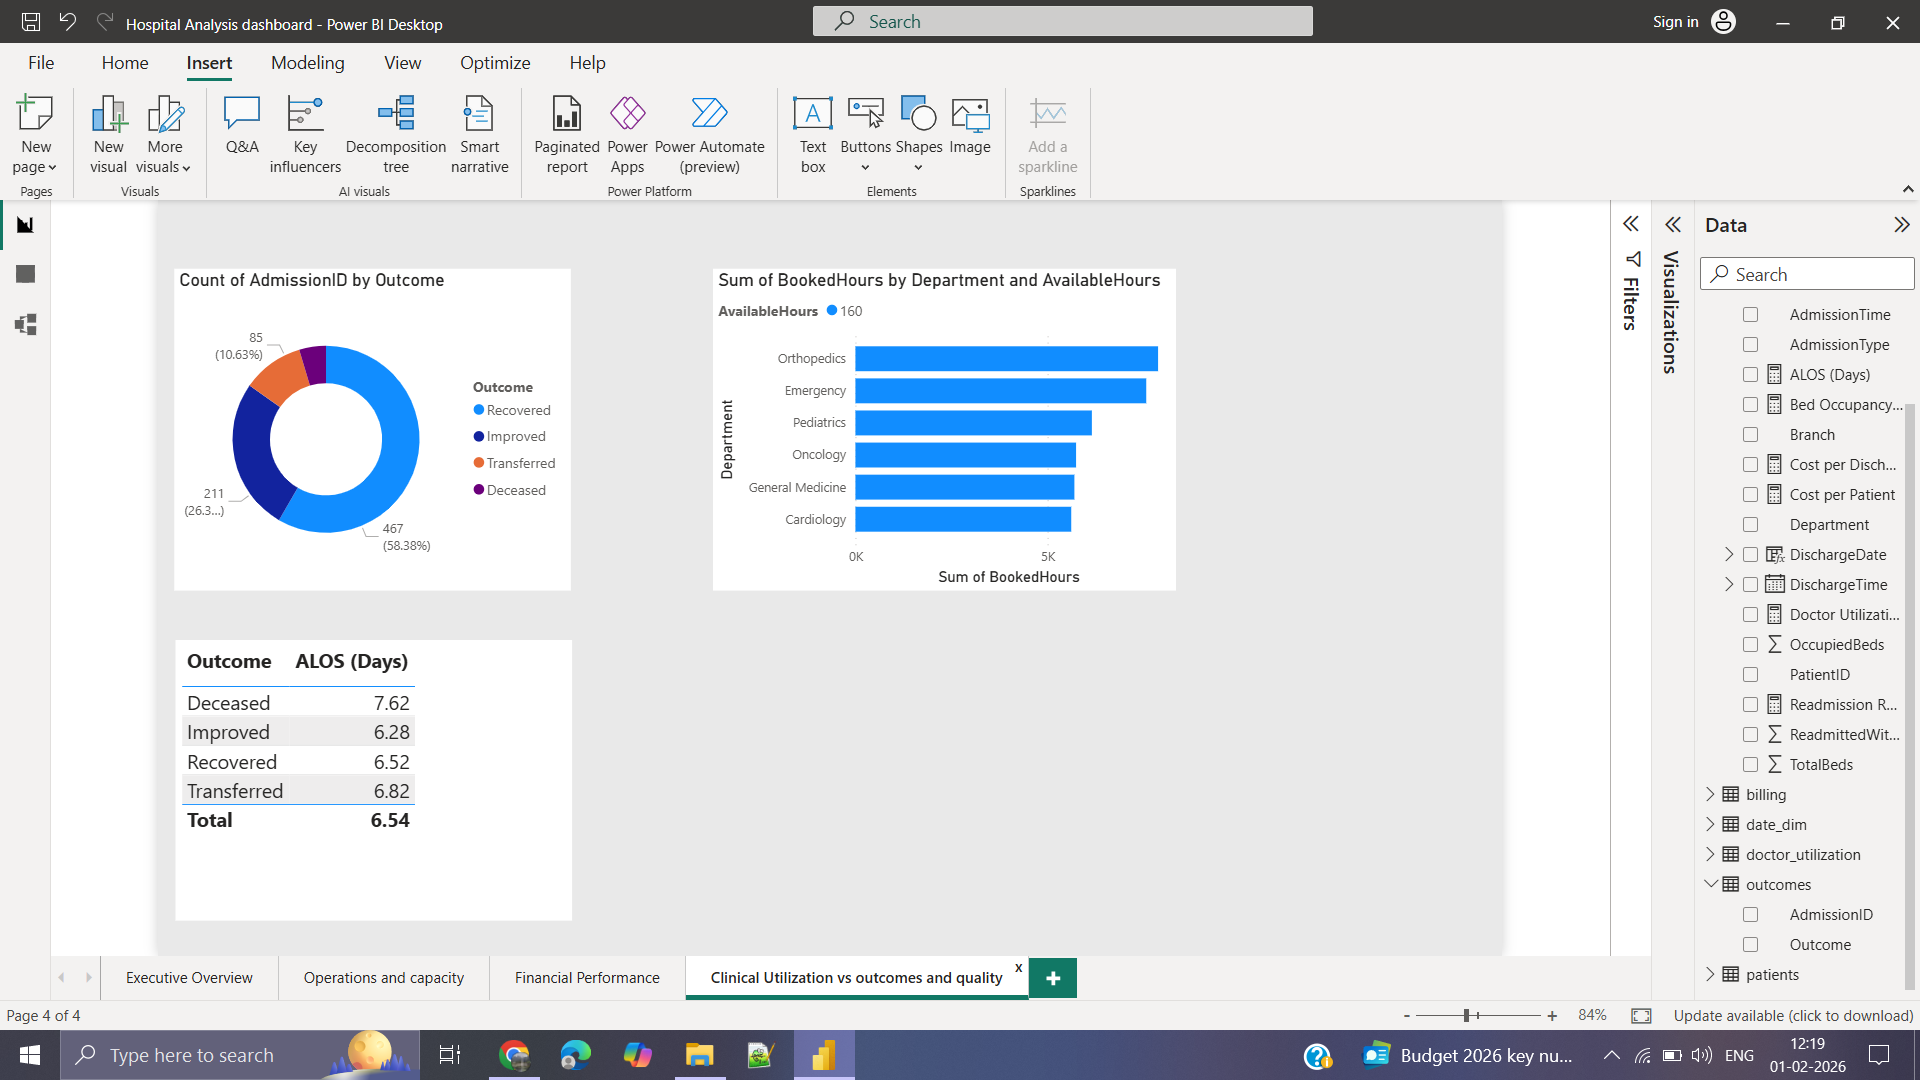

Layout of this report page (visuals, bound fields, positions):
{"tool":"powerbi","page":{"name":"Clinical Utilization vs outcomes and quality","canvas":[1280,720],"ordinal":3},"visuals":[{"type":"donutChart","fields":{"Category":["outcomes.Outcome"],"Y":["CountNonNull(outcomes.AdmissionID)"]},"box":[15.1,65.9,377.4,306],"z":0},{"type":"clusteredBarChart","fields":{"Category":["doctor_utilization.Department","doctor_utilization.DoctorID"],"Series":["doctor_utilization.AvailableHours"],"Y":["Sum(doctor_utilization.BookedHours)"]},"box":[528.3,65.9,440.5,306],"z":1},{"type":"tableEx","fields":{"Values":["outcomes.Outcome","admissions.ALOS (Days)"]},"box":[16.5,418.5,377.4,267.6],"z":2}]}

Visuals, with their boxes on the page's 1280x720 design canvas (x1, y1, x2, y2). These are canvas units, not pixel positions in the 1920x1080 screenshot, which may show the page scaled, cropped or inside an application window:
donutChart - outcomes.Outcome x CountNonNull(outcomes.AdmissionID): x1=15 y1=66 x2=392 y2=372
clusteredBarChart - doctor_utilization.Department x doctor_utilization.DoctorID: x1=528 y1=66 x2=969 y2=372
tableEx - outcomes.Outcome x admissions.ALOS (Days): x1=16 y1=418 x2=394 y2=686
